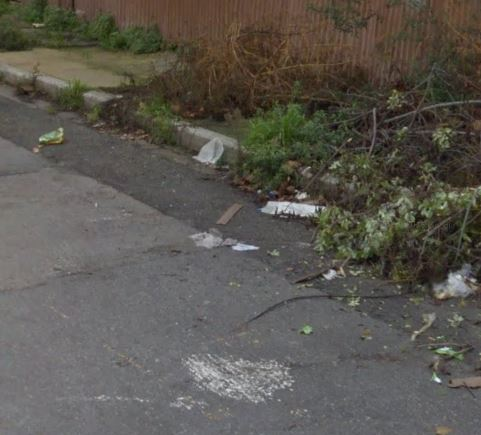trash: (185, 196, 268, 260), (259, 185, 360, 225), (427, 264, 481, 299), (31, 123, 78, 160), (188, 134, 230, 174)
